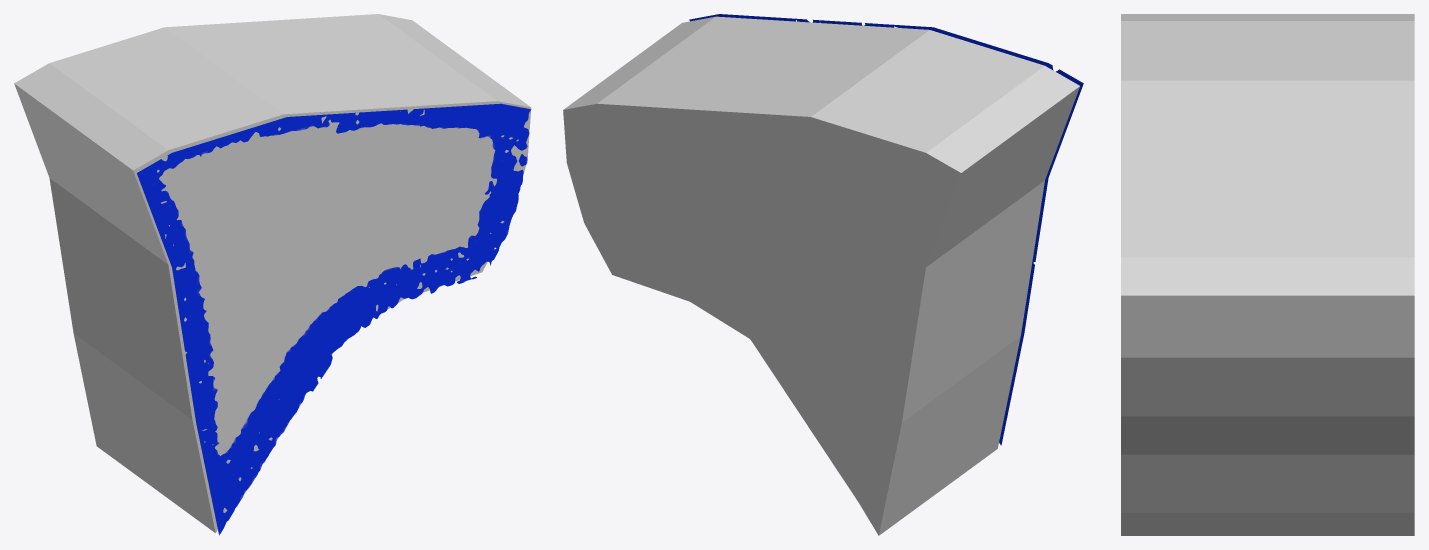
3 views of the same model, side by side, from view 1: azimuth 30°, elevation 25°; view 2: azimuth 150°, elevation 25°; view 3: azimuth 270°, elevation 25° (orthographic). The views are drawn at different scales.
Visible parts, largest first — view 1: In_8_0, In_8_1; view 2: In_8_0, In_8_1; view 3: In_8_0.
Boxes of the visible parts, <box> form: In_8_0: <box>14,14,531,532</box>; In_8_1: <box>137,103,531,535</box>; In_8_0: <box>563,16,1079,535</box>; In_8_1: <box>689,14,1083,445</box>; In_8_0: <box>1121,14,1414,535</box>.
Size of the model in its own units: 0.9657 by 0.9326 by 0.515.
Materials: 2 (1 with a texture image).
